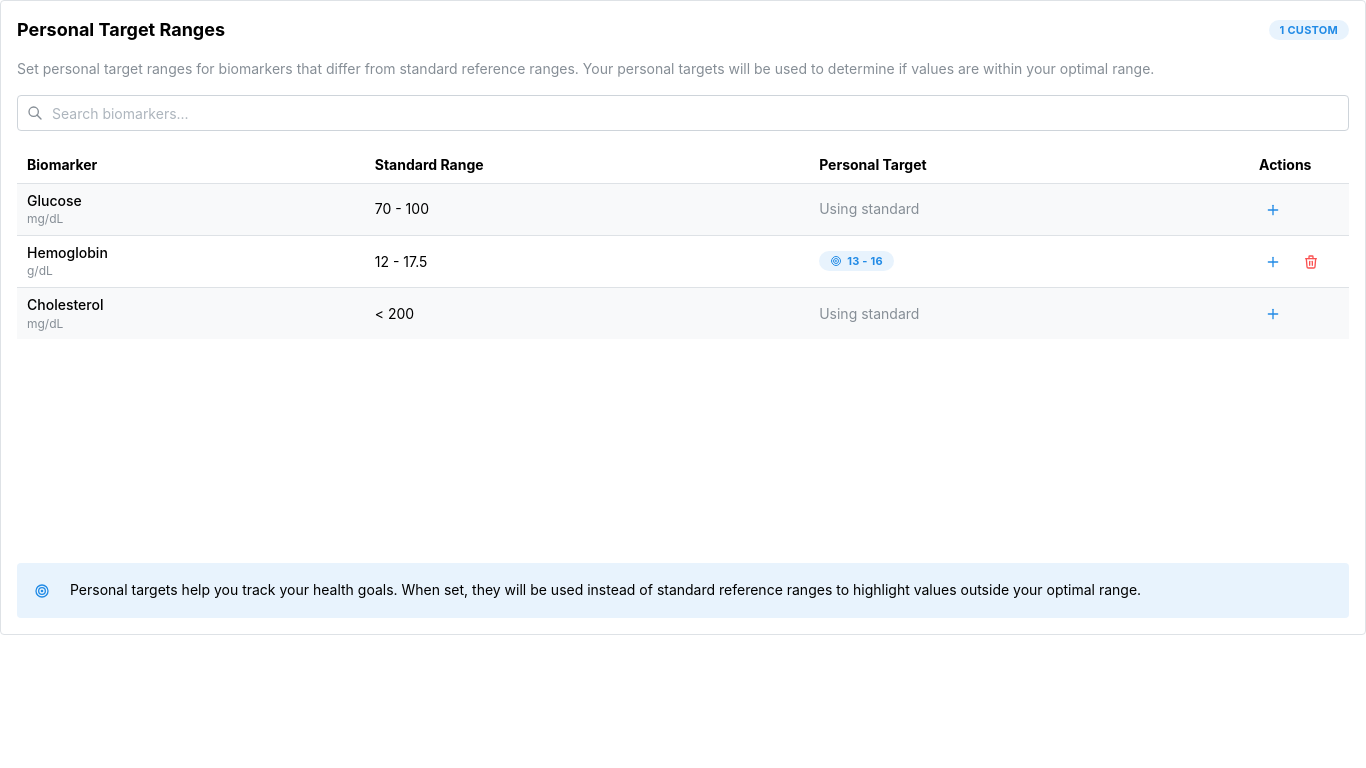
it: PersonalTargets › setting personal target › should open modal when set button is clicked
Click the button named "set personal target for".
click(1273, 210)  # box [1259,196,1287,224]
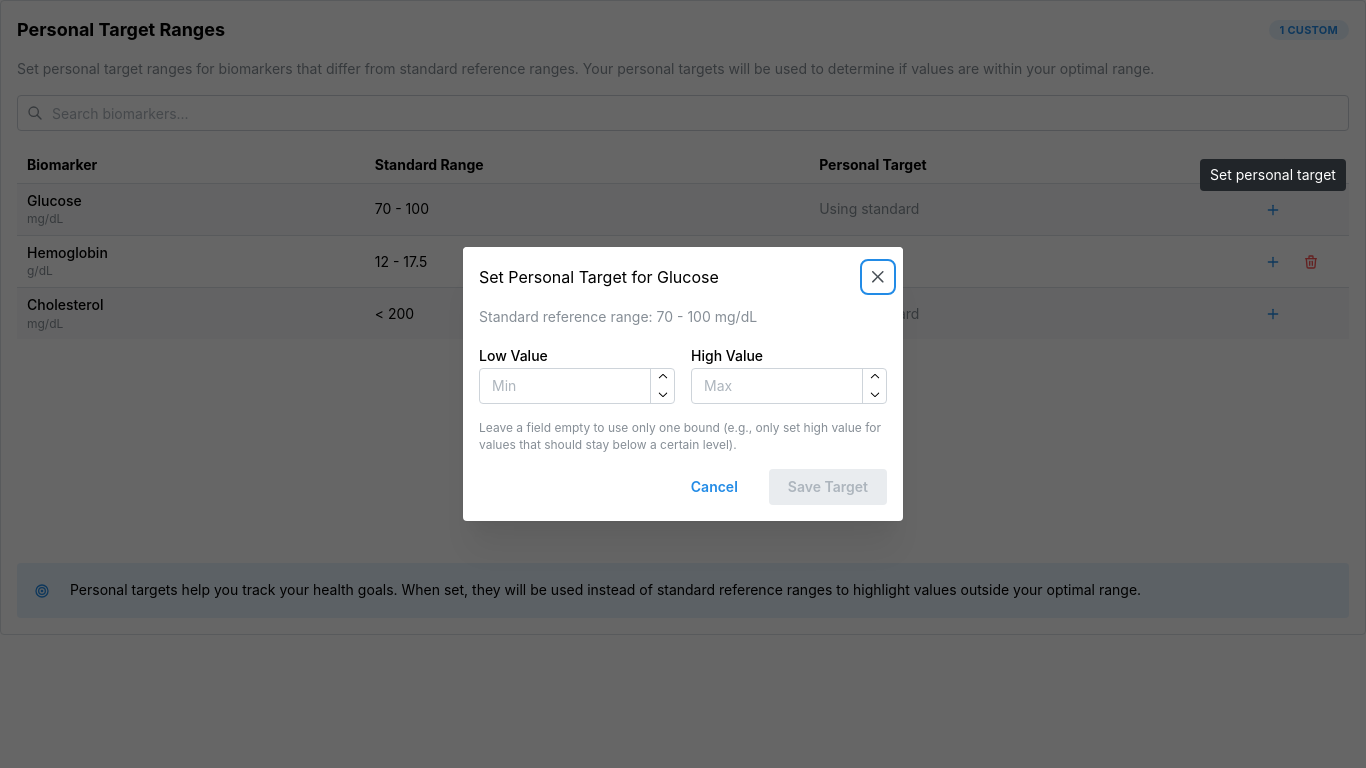
Expected: the heading "Set Personal Target for Glucose" is shown, [479,269,719,285]
